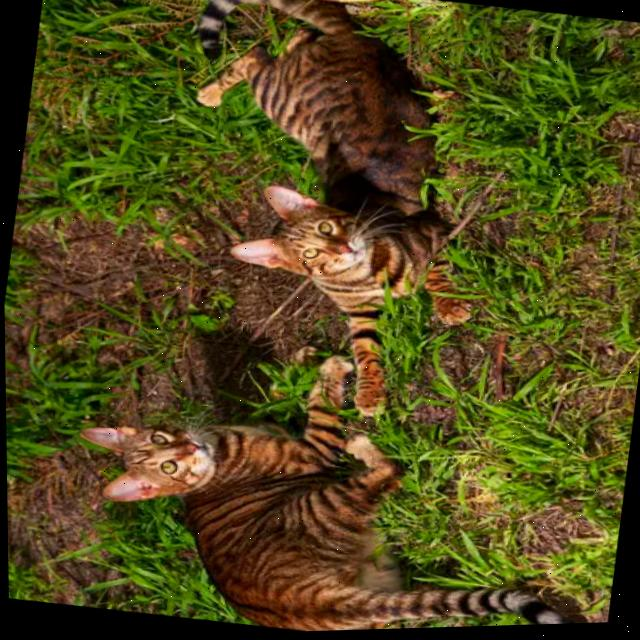Toyger: (48, 309, 636, 639), (140, 0, 519, 440)
